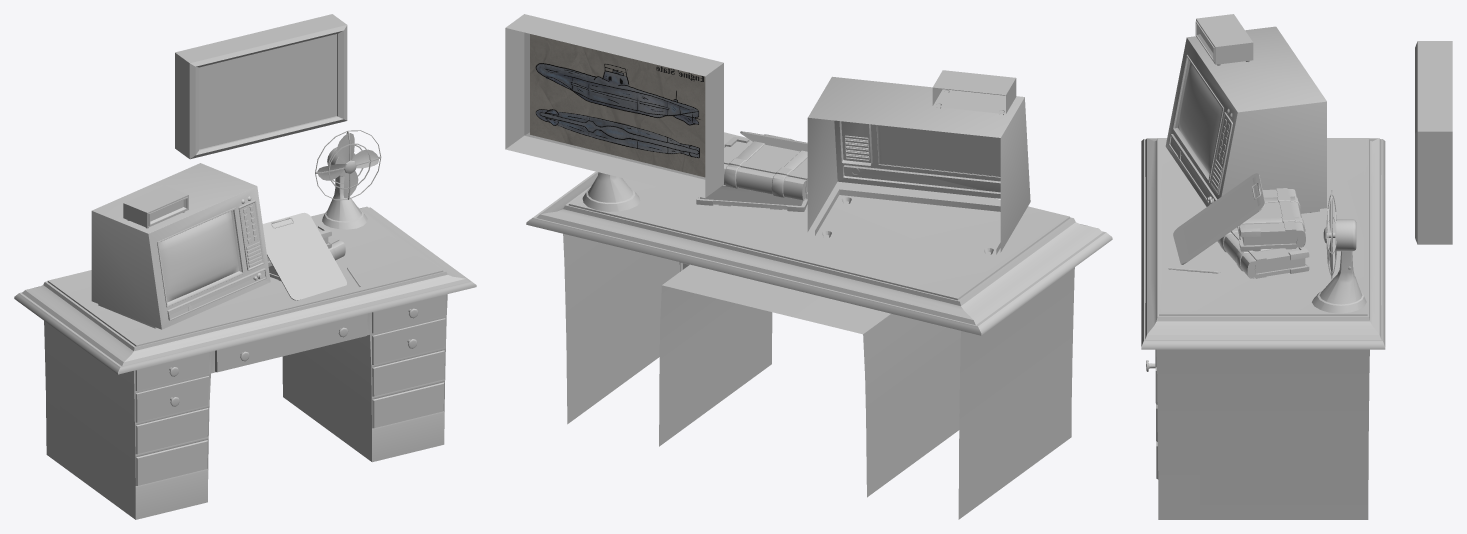
Rendered from GameJam_Scene.fbx.
The picture shows the model from 3 angles, left to right: view 1: azimuth 30°, elevation 25°; view 2: azimuth 150°, elevation 25°; view 3: azimuth 270°, elevation 25°; orthographic projection. The views are drawn at different scales.
Visible parts, largest first — view 1: bureau, Cube, Cadre, Plane, Fan.001, Cylinder.002, Cube.002, FanFan.001; view 2: bureau, Cadre, Cube, BookLP.001, Cylinder.002, BookLP, Fan.001; view 3: bureau, Cube, Cadre, BookLP.001, Fan.001, Plane, BookLP, Cylinder.002, Cube.002.
Part boxes in pixels (x1,y1,x2,y2): bureau: [14, 206, 476, 519]; Cube: [91, 163, 270, 329]; Cadre: [175, 14, 347, 159]; Plane: [263, 215, 339, 290]; Fan.001: [315, 130, 381, 229]; Cylinder.002: [123, 185, 188, 228]; Cube.002: [262, 212, 346, 300]; FanFan.001: [317, 133, 378, 198]; bureau: [526, 132, 1112, 519]; Cadre: [505, 14, 723, 197]; Cube: [807, 76, 1030, 254]; BookLP.001: [724, 137, 807, 200]; Cylinder.002: [932, 70, 1016, 114]; BookLP: [696, 185, 807, 211]; Fan.001: [582, 172, 640, 211]; bureau: [1141, 138, 1385, 519]; Cube: [1165, 26, 1326, 213]; Cadre: [1415, 41, 1452, 244]; BookLP.001: [1237, 188, 1305, 251]; Fan.001: [1312, 190, 1366, 313]; Plane: [1183, 176, 1260, 255]; BookLP: [1217, 227, 1309, 278]; Cylinder.002: [1195, 14, 1253, 65]; Cube.002: [1173, 173, 1265, 264].
Bounding box in the file's own units: 1.59 × 1.43 × 1.02.
